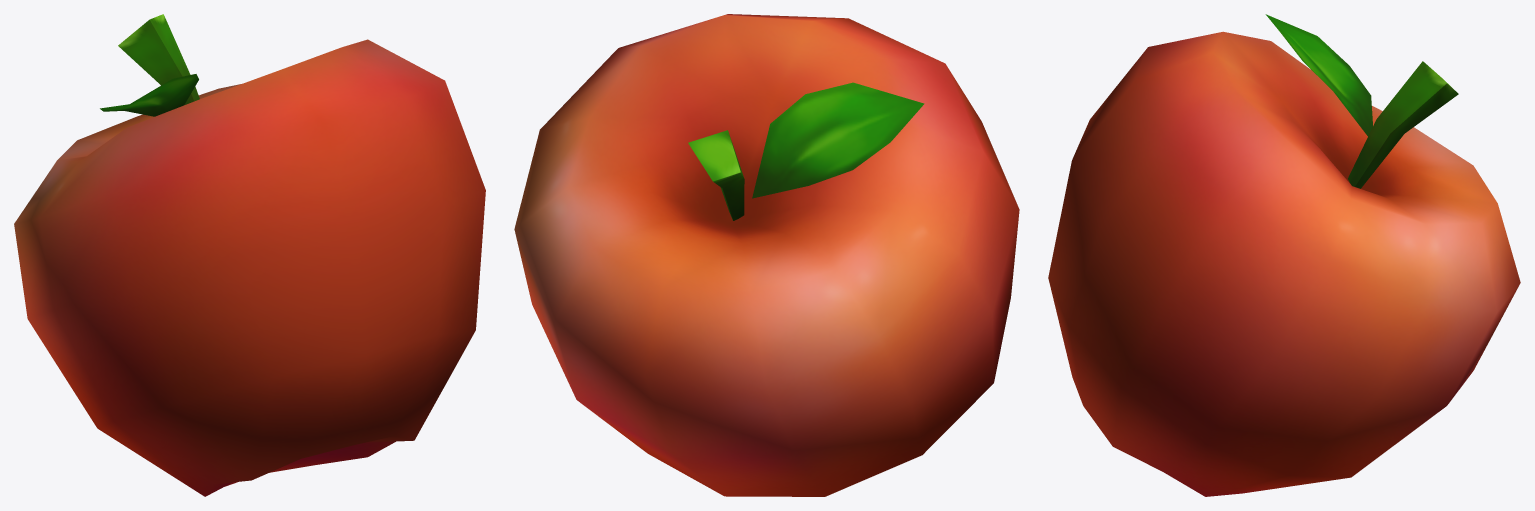
The model's file is apple.fbx.
The picture shows the model from 3 angles, left to right: view 1: azimuth 30°, elevation 25°; view 2: azimuth 150°, elevation 25°; view 3: azimuth 270°, elevation 25°; orthographic projection. The views are drawn at different scales.
Parts seen in each view (by area): view 1: apple; view 2: apple; view 3: apple.
Part boxes in pixels (x1,y1,x2,y2): apple: (14, 14, 485, 496); apple: (514, 14, 1019, 496); apple: (1048, 14, 1520, 496).
Size of the model in its own units: 0.5781 by 0.5668 by 0.5779.
